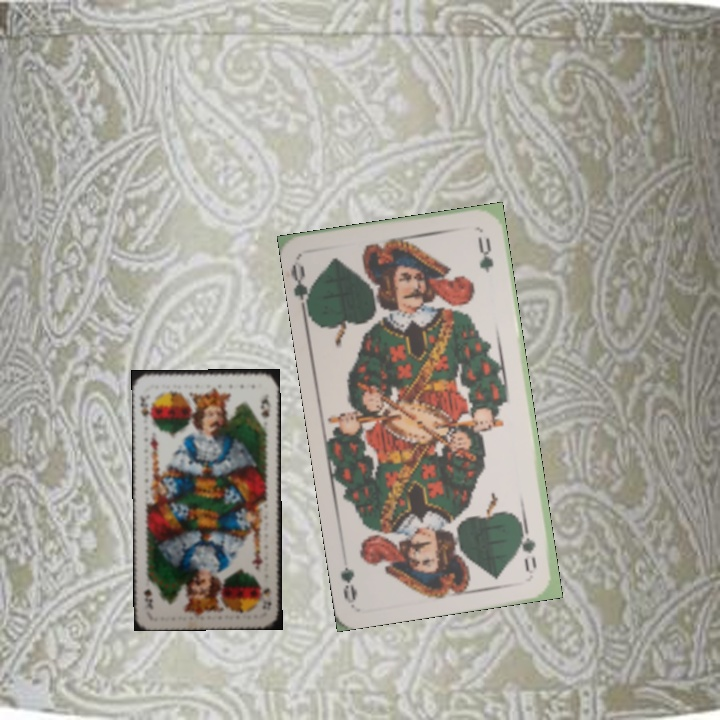GO: (288, 258, 318, 317), (515, 517, 540, 570)
SK: (136, 392, 155, 425), (258, 584, 273, 613)
